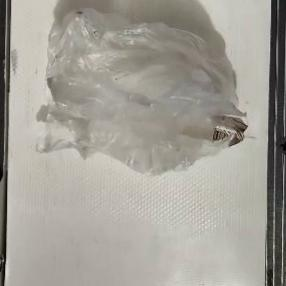Plastik: (36, 7, 248, 177)
